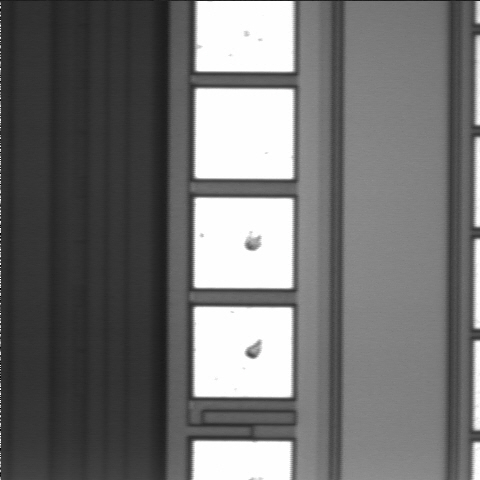pad: (195, 89, 293, 179), (195, 198, 293, 288), (194, 307, 292, 397)
